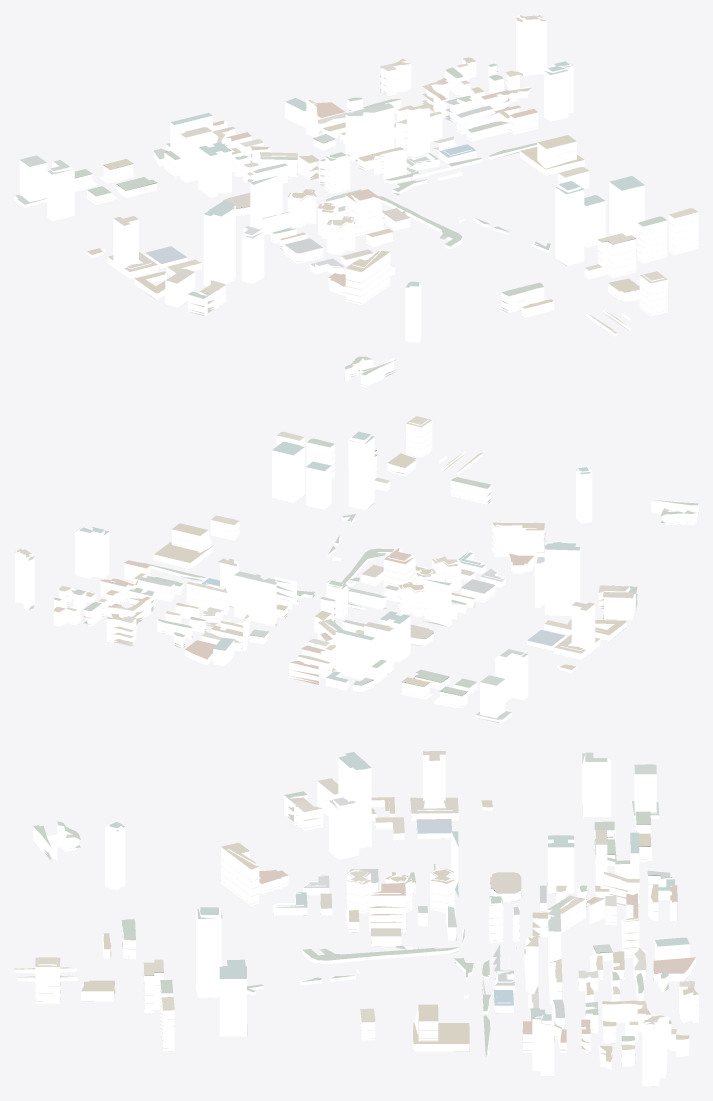
The model's file is buildings-3_3-coarse.glb.
3 views of the same model, one above another, from view 1: azimuth 30°, elevation 25°; view 2: azimuth 150°, elevation 25°; view 3: azimuth 270°, elevation 25° (orthographic). The views are drawn at different scales.
Visible parts, largest first — view 1: block_3_3_residential, block_3_3_office, block_3_3_roof; view 2: block_3_3_office, block_3_3_residential, block_3_3_roof; view 3: block_3_3_residential, block_3_3_roof, block_3_3_office.
Boxes of the visible parts, <box> form: block_3_3_residential: <box>14,59,698,387</box>; block_3_3_office: <box>19,14,644,342</box>; block_3_3_roof: <box>15,15,697,385</box>; block_3_3_office: <box>14,432,634,718</box>; block_3_3_residential: <box>53,419,698,722</box>; block_3_3_roof: <box>15,416,698,722</box>; block_3_3_residential: <box>14,795,698,1069</box>; block_3_3_roof: <box>14,751,698,1086</box>; block_3_3_office: <box>105,751,689,1086</box>.
Bounding box in the file's own units: 663 × 91.65 × 672.
